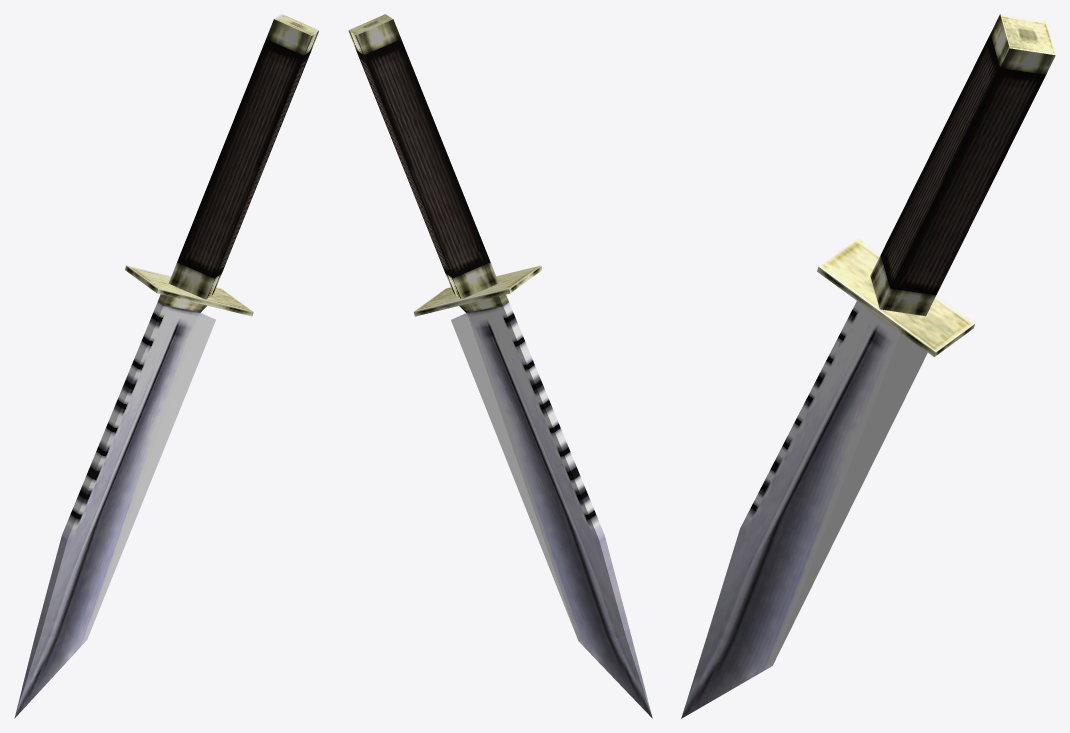
The model's file is icondata.ico.obj.
The picture shows the model from 3 angles, left to right: view 1: azimuth 30°, elevation 25°; view 2: azimuth 150°, elevation 25°; view 3: azimuth 330°, elevation 25°; orthographic projection. The views are drawn at different scales.
Bounding box in the file's own units: 2.26 × 4.5 × 0.4104.
Materials: 1 (1 with a texture image).
